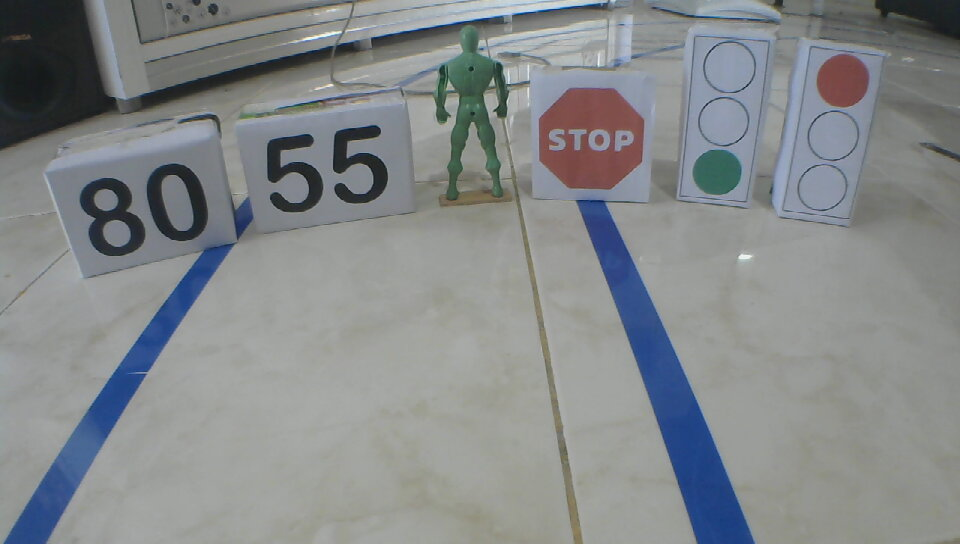Green Light: (690, 41, 758, 195)
Person: (434, 23, 511, 203)
Red Light: (797, 52, 871, 213)
Speed 55: (264, 125, 388, 217)
Speed 80: (82, 162, 213, 259)
Stop: (536, 87, 644, 192)
